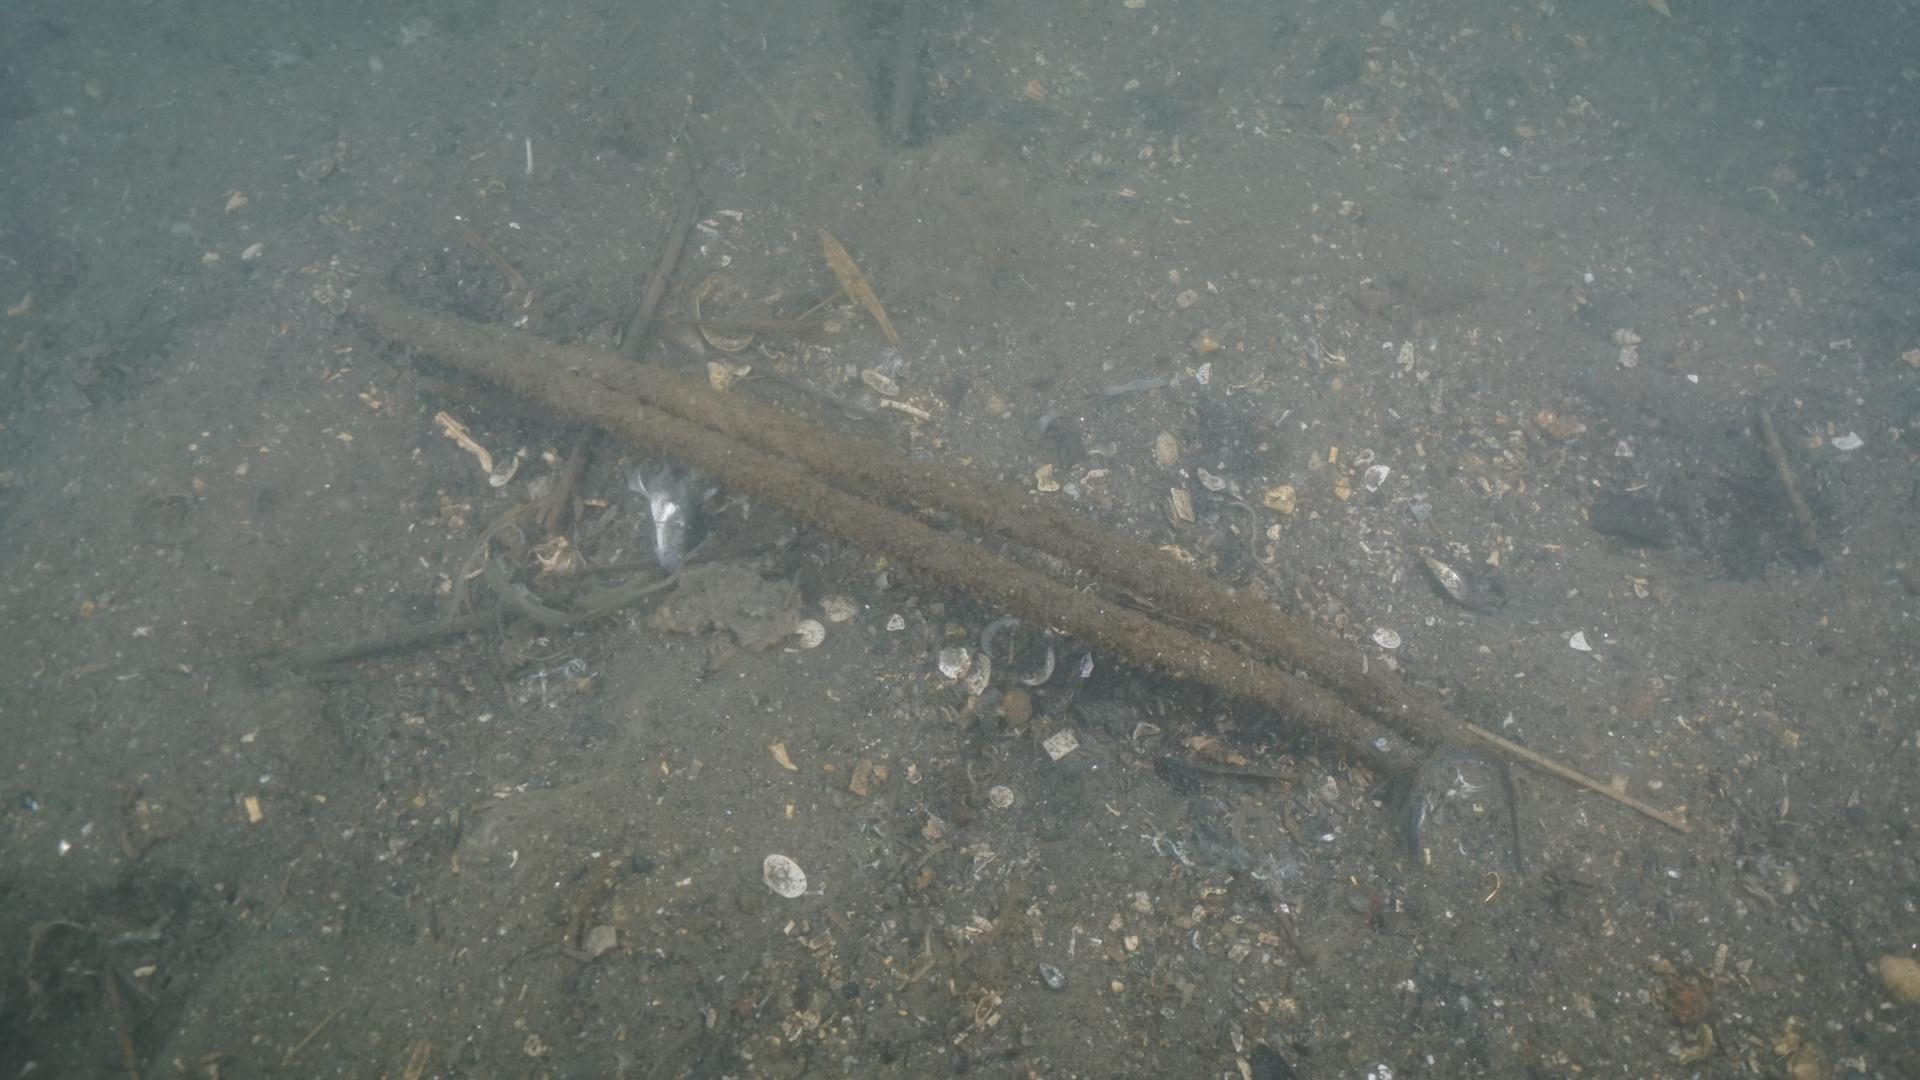bundle of ropes: (340, 285, 1455, 781)
